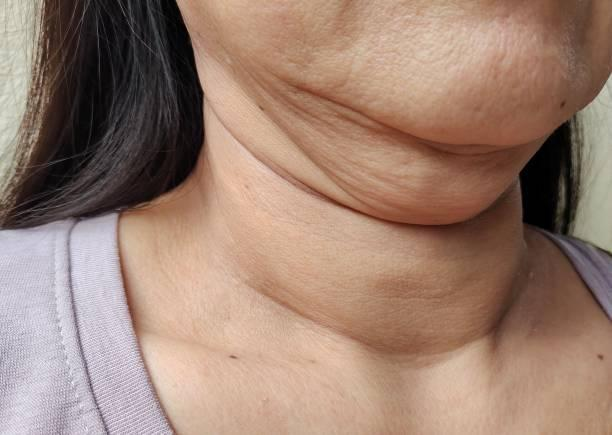Dry-Skin: (287, 6, 588, 147)
